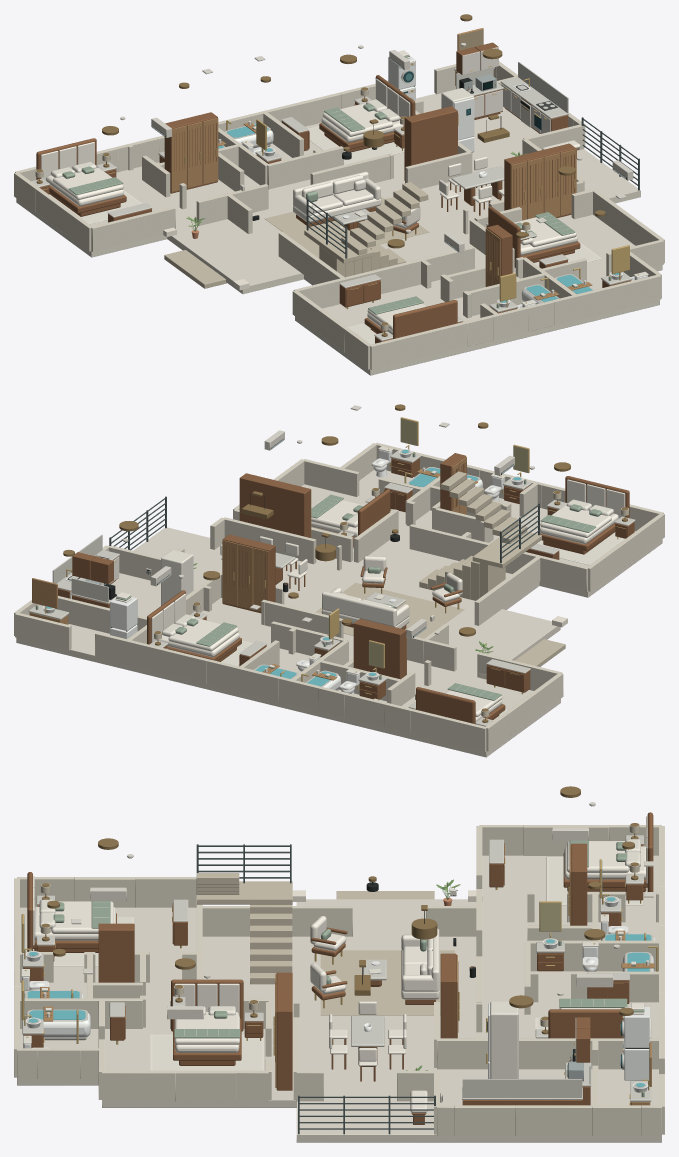
File: ground.glb
The picture shows the model from 3 angles, top to bottom: view 1: azimuth 30°, elevation 25°; view 2: azimuth 150°, elevation 25°; view 3: azimuth 270°, elevation 25°; orthographic projection. The views are drawn at different scales.
Parts seen in each view (by area): view 1: ground--ivory, ground--tile, ground--furniture-teak, ground--furniture-linen, ground--furniture-oak, ground--sand, ground--furniture-ivory, ground--furniture-stone, ground--furniture-ceramic, ground--furniture-sage, ground--luxury-device-bronze, ground--furniture-brass (+3 smaller); view 2: ground--ivory, ground--tile, ground--furniture-teak, ground--furniture-linen, ground--sand, ground--furniture-stone, ground--furniture-oak, ground--furniture-ivory, ground--furniture-ceramic, ground--furniture-sage, ground--luxury-device-bronze, ground--furniture-brass (+4 smaller); view 3: ground--ivory, ground--tile, ground--furniture-teak, ground--furniture-linen, ground--sand, ground--furniture-stone, ground--furniture-ivory, ground--furniture-ceramic, ground--bronze, ground--luxury-device-bronze, ground--furniture-sage, ground--luxury-device-ivory (+5 smaller).
Part boxes in pixels (x1=…): ground--ivory: x1=14, y1=61, x2=664, y2=369; ground--tile: x1=16, y1=93, x2=662, y2=375; ground--furniture-teak: x1=36, y1=42, x2=631, y2=343; ground--furniture-linen: x1=41, y1=50, x2=601, y2=334; ground--furniture-oak: x1=171, y1=28, x2=592, y2=300; ground--sand: x1=164, y1=182, x2=429, y2=288; ground--furniture-ivory: x1=50, y1=47, x2=648, y2=344; ground--furniture-stone: x1=31, y1=62, x2=632, y2=340; ground--furniture-ceramic: x1=234, y1=56, x2=647, y2=308; ground--furniture-sage: x1=62, y1=55, x2=611, y2=314; ground--luxury-device-bronze: x1=36, y1=14, x2=605, y2=336; ground--furniture-brass: x1=43, y1=63, x2=638, y2=309; ground--ivory: x1=14, y1=442, x2=664, y2=751; ground--tile: x1=16, y1=470, x2=662, y2=757; ground--furniture-teak: x1=58, y1=453, x2=634, y2=724; ground--furniture-linen: x1=115, y1=467, x2=625, y2=721; ground--sand: x1=315, y1=471, x2=565, y2=666; ground--furniture-stone: x1=28, y1=449, x2=635, y2=726; ground--furniture-oak: x1=29, y1=456, x2=477, y2=680; ground--furniture-ivory: x1=70, y1=446, x2=625, y2=720; ground--furniture-ceramic: x1=42, y1=449, x2=523, y2=694; ground--furniture-sage: x1=35, y1=452, x2=601, y2=700; ground--luxury-device-bronze: x1=63, y1=404, x2=628, y2=722; ground--furniture-brass: x1=36, y1=417, x2=625, y2=694; ground--ivory: x1=14, y1=825, x2=664, y2=1135; ground--tile: x1=17, y1=855, x2=661, y2=1142; ground--furniture-teak: x1=23, y1=812, x2=653, y2=1124; ground--furniture-linen: x1=33, y1=816, x2=651, y2=1112; ground--sand: x1=196, y1=873, x2=454, y2=1015; ground--furniture-stone: x1=22, y1=835, x2=653, y2=1101; ground--furniture-ivory: x1=21, y1=839, x2=640, y2=1078; ground--furniture-ceramic: x1=22, y1=896, x2=655, y2=1092; ground--bronze: x1=196, y1=844, x2=435, y2=1134; ground--luxury-device-bronze: x1=41, y1=786, x2=638, y2=1077; ground--furniture-sage: x1=29, y1=840, x2=644, y2=1097; ground--luxury-device-ivory: x1=71, y1=802, x2=653, y2=1061.
Size of the model in its own units: 16.76 by 3.22 by 16.29.
Materials: 34 (7 with a texture image).
